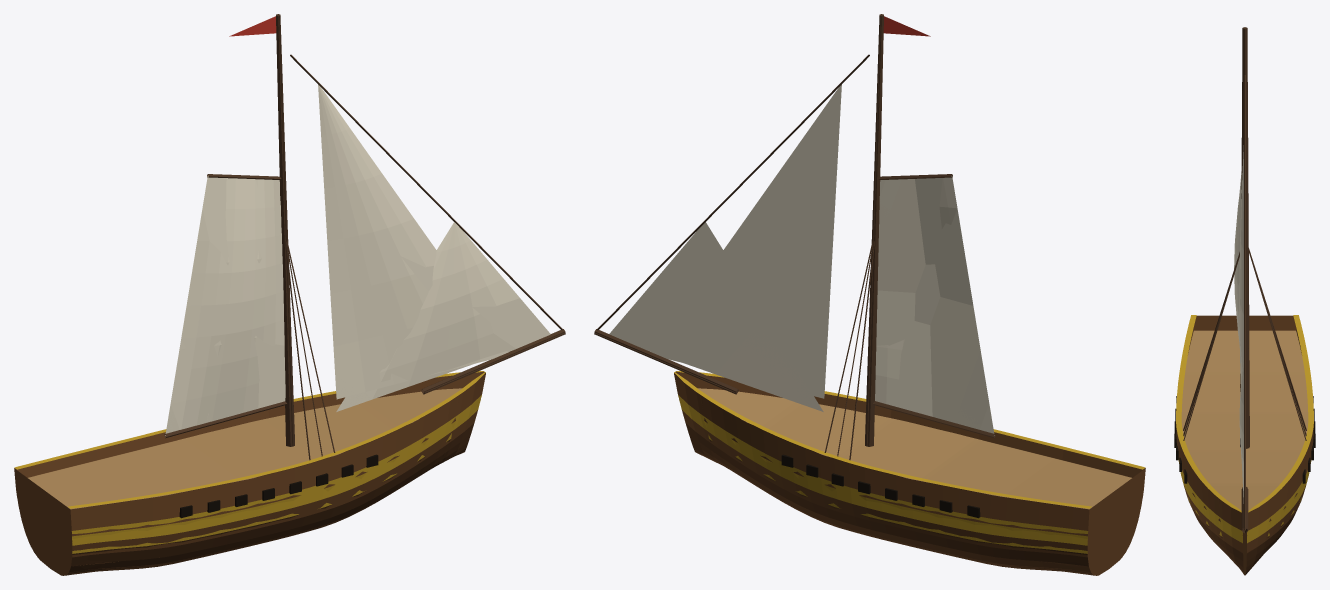
File: sloop.glb
3 views of the same model, side by side, from view 1: azimuth 30°, elevation 25°; view 2: azimuth 150°, elevation 25°; view 3: azimuth 270°, elevation 25° (orthographic). The views are drawn at different scales.
Visible parts, largest first — view 1: LOD0_Body, LOD2_Body, LOD0_m0_AftSail, LOD1_Body, LOD1_m0_AftSail; view 2: LOD2_Body, LOD0_Body, LOD2_m0_AftSail, LOD1_Body, LOD0_m0_AftSail, LOD1_m0_AftSail; view 3: LOD2_Body, LOD0_Body, LOD1_Body, LOD0_m0_AftSail.
Boxes of the visible parts, x1,y1,x2,y2 form: LOD0_Body: (14, 14, 565, 575); LOD2_Body: (14, 371, 485, 566); LOD0_m0_AftSail: (164, 174, 287, 438); LOD1_Body: (16, 16, 565, 575); LOD1_m0_AftSail: (165, 175, 285, 435); LOD2_Body: (609, 84, 1145, 567); LOD0_Body: (594, 14, 1145, 575); LOD2_m0_AftSail: (876, 178, 994, 435); LOD1_Body: (594, 16, 1143, 575); LOD0_m0_AftSail: (872, 174, 995, 438); LOD1_m0_AftSail: (880, 179, 989, 428); LOD2_Body: (1179, 315, 1310, 571); LOD0_Body: (1174, 27, 1315, 575); LOD1_Body: (1176, 28, 1313, 574); LOD0_m0_AftSail: (1234, 177, 1241, 341).
Bounding box in the file's own units: 25.25 × 23.56 × 6.19.
1 material, 1 textured.
